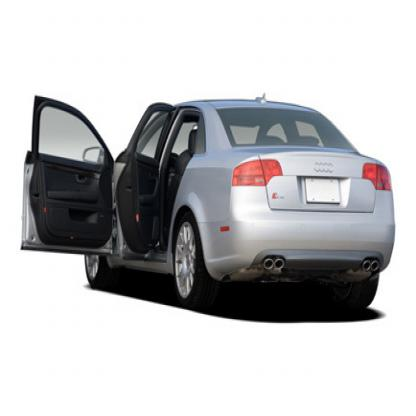Vehicle: (13, 90, 400, 309)
